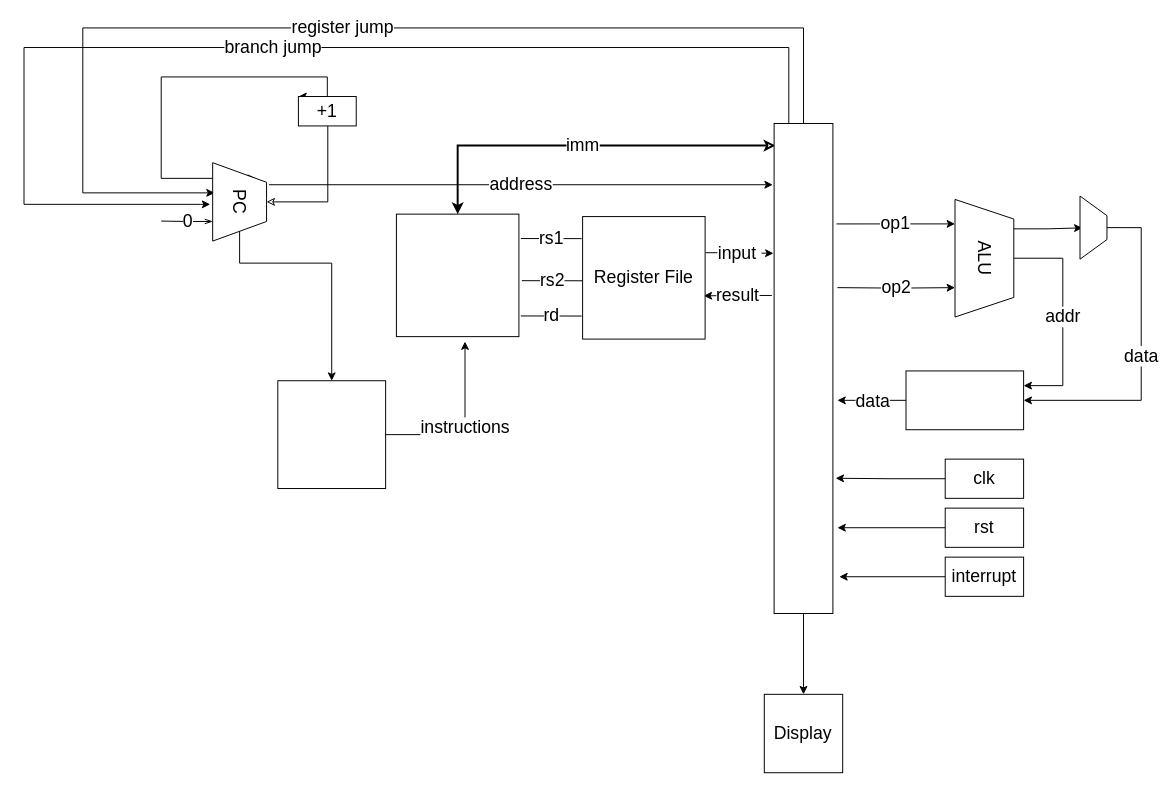
This 1175x790 diagram has some shape labels left out. The shapes that lost their labels are listed below. From the top down, each one's centre as x and y in pixels, then its label:
the point at 457,275: Decoder
the point at 803,367: Control Unit
the point at 964,400: DMem
the point at 331,434: IMem
